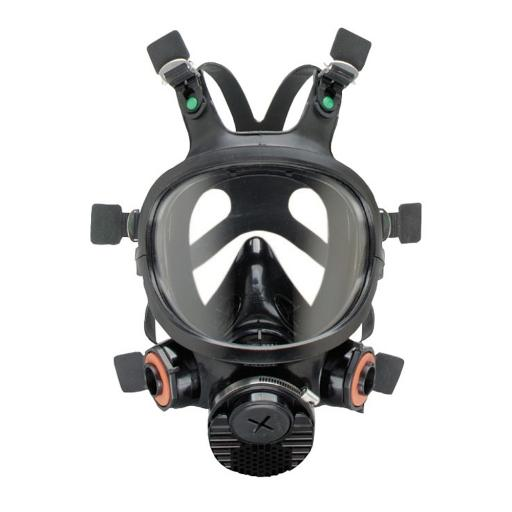mask: (60, 137, 498, 482)
